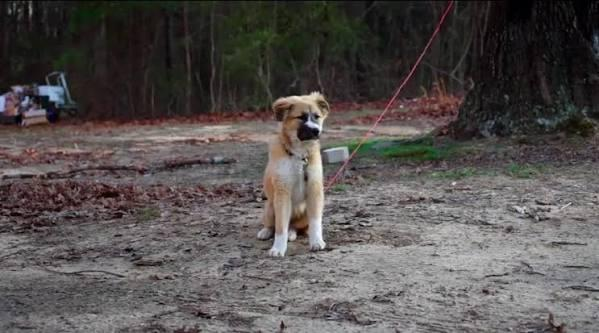puppy-dog: (258, 88, 334, 257)
